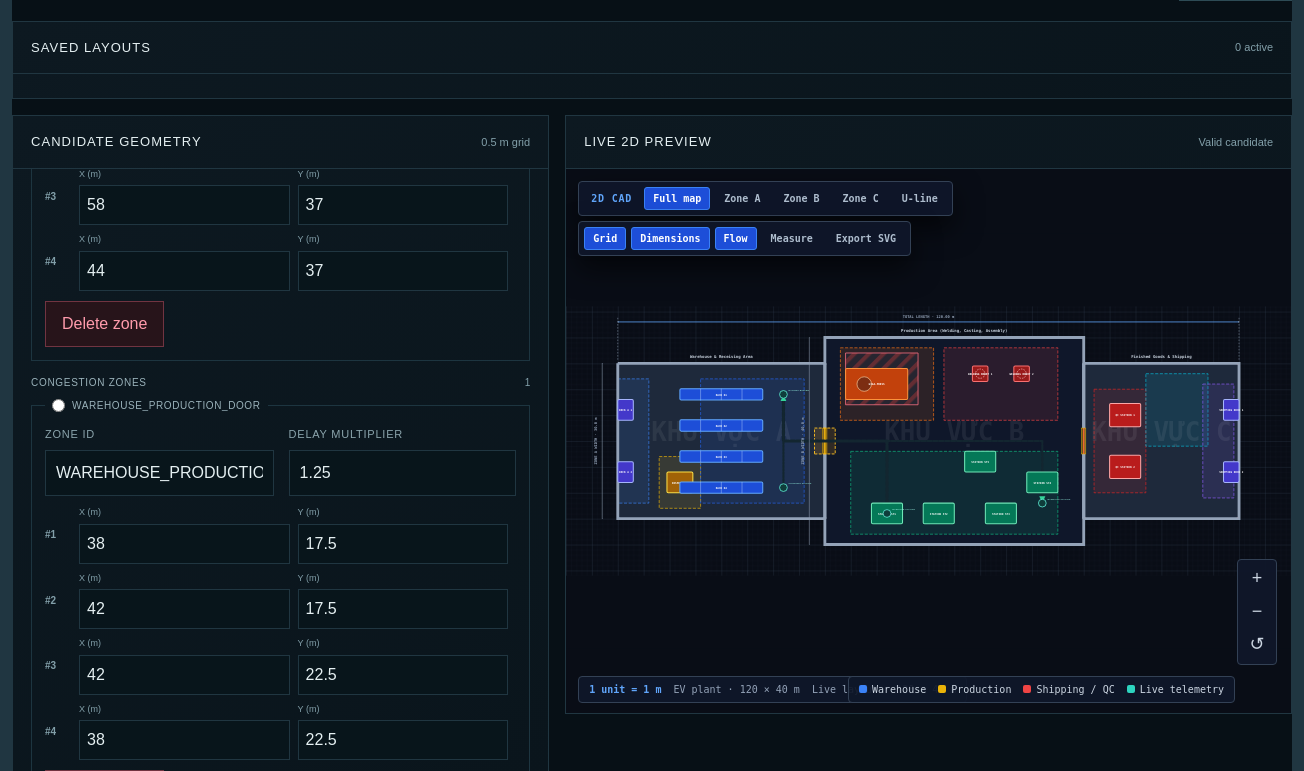
Test case: LayoutsPage › blocks saving when zone IDs are duplicated
(page scrolled)
Step 1. Replace the text in the field labelled "Zone ID" with "GIGA_PRESS_CLEARANCE" → (160, 473), box [45, 450, 274, 496]
(page scrolled)
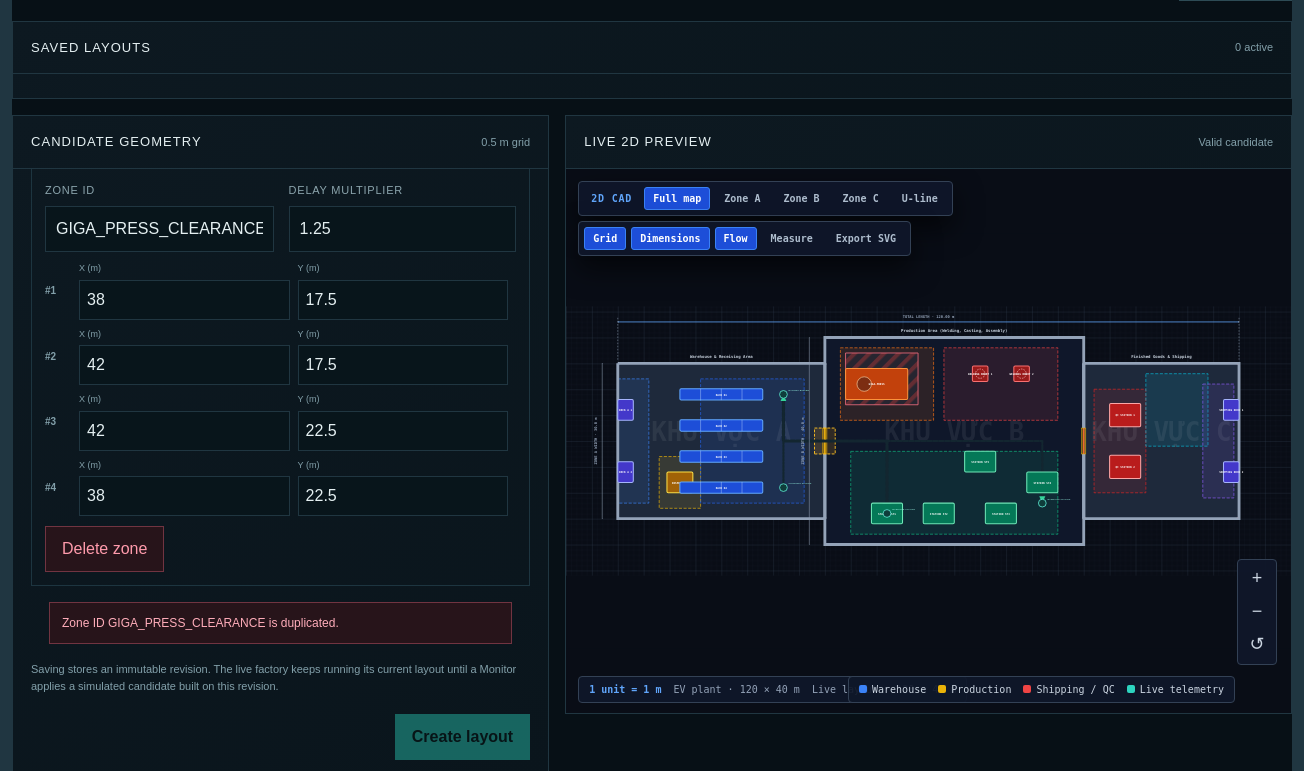
expect the message shows "Zone ID GIGA_PRESS_CLEARANCE is duplicated": met, box [62, 616, 339, 630]
expect the button "Create layout" is disabled: met, box [395, 714, 530, 760]
